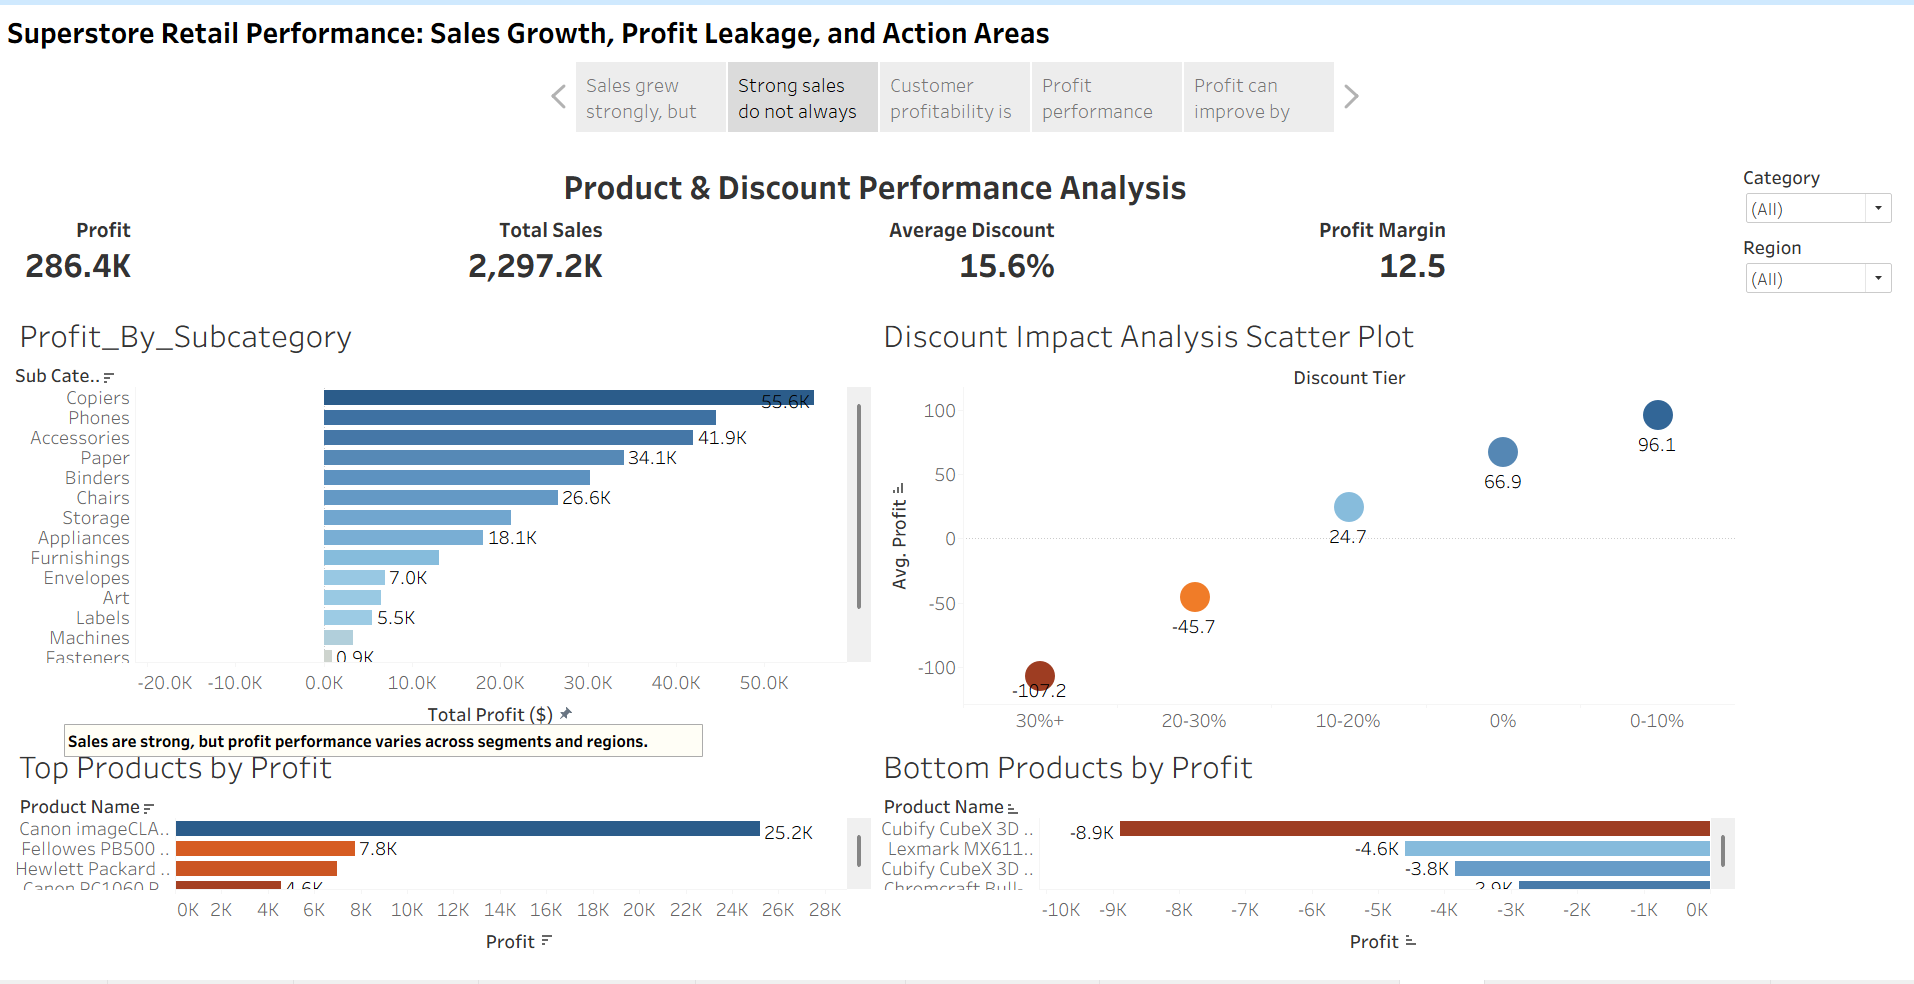

The dashboard page shown, as its layout file describes it:
{"tool":"tableau","page":{"name":"Product & Discount Analysis","canvas":[1000,1000],"units":"permille","ordinal":4},"visuals":[{"type":"title","box":[4.2,8.2,908.3,53.3]},{"type":"filter","title":"Profit_By_Subcategory","param":"[federated.1k9e1lu12u8j3r19thx170q1152m].[none:category:nk]","box":[912.5,8.2,83.3,71.8]},{"type":"worksheet","title":"Product Profit","mark":"Automatic","box":[4.2,61.5,227.1,116.9]},{"type":"worksheet","title":"Product Sales","mark":"Automatic","box":[231.2,61.5,227.1,116.9]},{"type":"worksheet","title":"Average Discount","mark":"Automatic","box":[458.3,61.5,227.1,116.9]},{"type":"worksheet","title":"Profit Margin","mark":"Automatic","box":[685.4,61.5,227.1,116.9]},{"type":"filter","title":"Profit_By_Subcategory","param":"[federated.1k9e1lu12u8j3r19thx170q1152m].[none:region:nk]","box":[912.5,80,83.3,71.8]},{"type":"worksheet","title":"Profit_By_Subcategory","mark":"Bar","rows":["sub_category"],"cols":["profit"],"box":[4.2,178.5,454.2,535.4]},{"type":"worksheet","title":"Discount Impact Analysis Scatter Plot","mark":"Circle","rows":["profit"],"cols":["Calculation_1090434066873233408"],"box":[458.3,178.5,454.2,535.4]},{"type":"worksheet","title":"Top Products by Profit","mark":"Automatic","rows":["product_name"],"cols":["profit"],"box":[4.2,713.9,454.2,277.9]},{"type":"worksheet","title":"Bottom Products by Profit ","mark":"Automatic","rows":["product_name"],"cols":["profit"],"box":[458.3,713.9,454.2,277.9]}]}

Visuals, with their boxes on the dashboard's canvas, which has no fixed pixel size, in thousandths of its width and height (x1, y1, x2, y2). These are canvas units, not pixel positions in the 1914x984 screenshot, which may show the page scaled, cropped or inside an application window:
title: box=[4, 8, 912, 62]
"Profit_By_Subcategory" filter: box=[912, 8, 996, 80]
"Product Profit" worksheet: box=[4, 62, 231, 178]
"Product Sales" worksheet: box=[231, 62, 458, 178]
"Average Discount" worksheet: box=[458, 62, 685, 178]
"Profit Margin" worksheet: box=[685, 62, 912, 178]
"Profit_By_Subcategory" filter: box=[912, 80, 996, 152]
"Profit_By_Subcategory" worksheet (Bar marks): box=[4, 178, 458, 714]
"Discount Impact Analysis Scatter Plot" worksheet (Circle marks): box=[458, 178, 912, 714]
"Top Products by Profit" worksheet: box=[4, 714, 458, 992]
"Bottom Products by Profit " worksheet: box=[458, 714, 912, 992]
